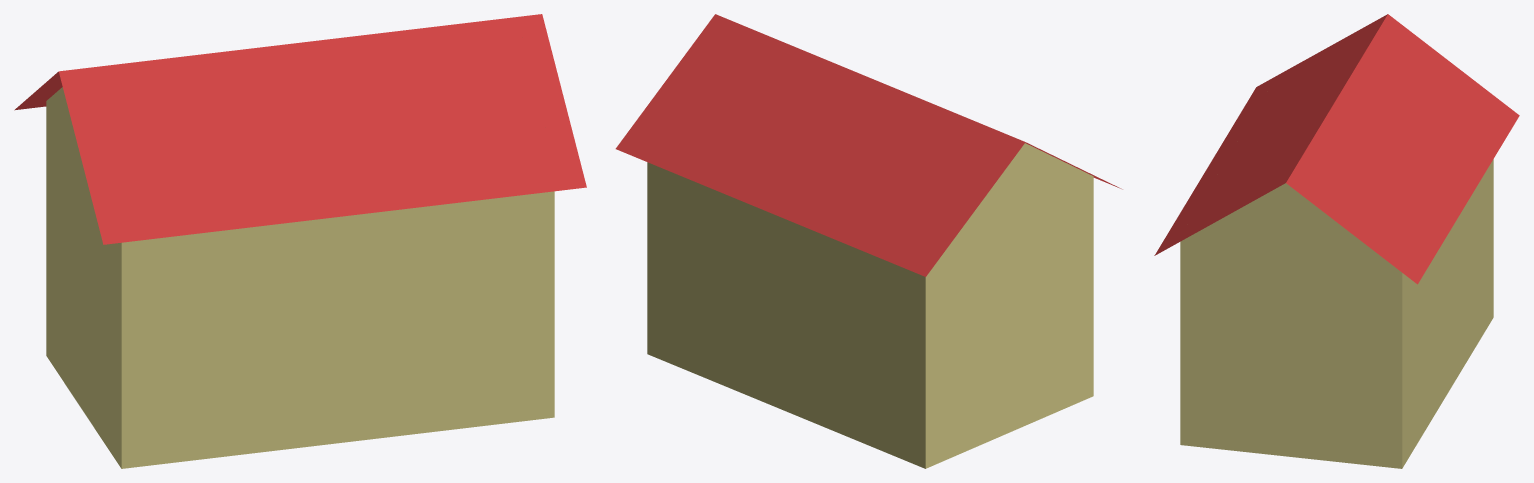
3 renders of one model, left to right at view 1: azimuth 30°, elevation 25°; view 2: azimuth 150°, elevation 25°; view 3: azimuth 270°, elevation 25°, orthographic. The views are drawn at different scales.
Visible parts, largest first — view 1: group_5, group_3, group_4; view 2: group_5, group_3, group_4; view 3: group_5, group_3, group_4.
Part boxes in pixels (box(x1,y1,x2,y2)): group_5: box(46, 87, 554, 468); group_3: box(59, 17, 554, 243); group_4: box(14, 14, 586, 244); group_5: box(647, 143, 1093, 468); group_3: box(615, 14, 1122, 276); group_4: box(978, 135, 1065, 177); group_5: box(1180, 159, 1493, 468); group_3: box(1180, 14, 1519, 284); group_4: box(1154, 14, 1424, 255).
Bounding box in the file's own units: 21.78 × 17.04 × 14.54.
